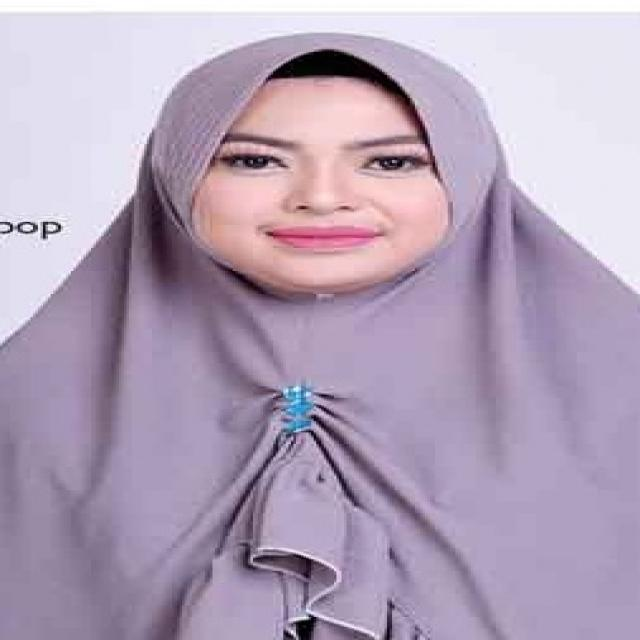head: (149, 36, 484, 301)
